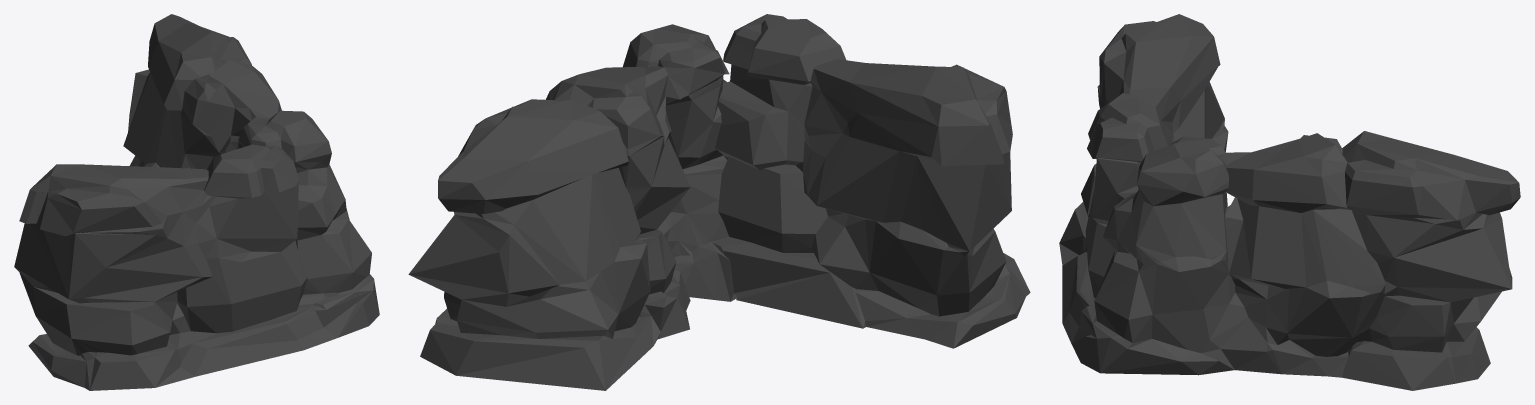
The model's file is rock__rockform_corner_hard_dark.glb.
3 views of the same model, side by side, from view 1: azimuth 30°, elevation 25°; view 2: azimuth 150°, elevation 25°; view 3: azimuth 270°, elevation 25° (orthographic). The views are drawn at different scales.
Visible parts, largest first — view 1: rockform.corner.hard.dark; view 2: rockform.corner.hard.dark; view 3: rockform.corner.hard.dark.
Boxes of the visible parts, <box> form: rockform.corner.hard.dark: <box>14,14,379,390</box>; rockform.corner.hard.dark: <box>408,14,1030,390</box>; rockform.corner.hard.dark: <box>1059,14,1520,390</box>.
Bounding box in the file's own units: 30.34 × 15.39 × 31.3.
1 material, 1 textured.
